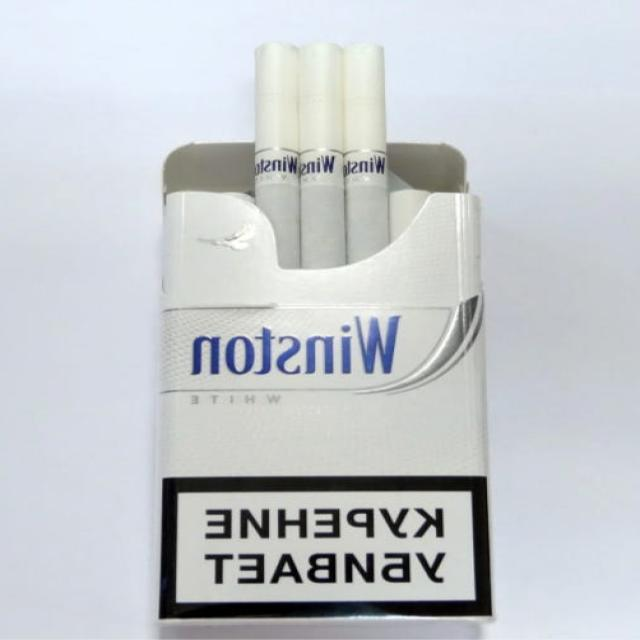winston: (144, 33, 489, 638)
